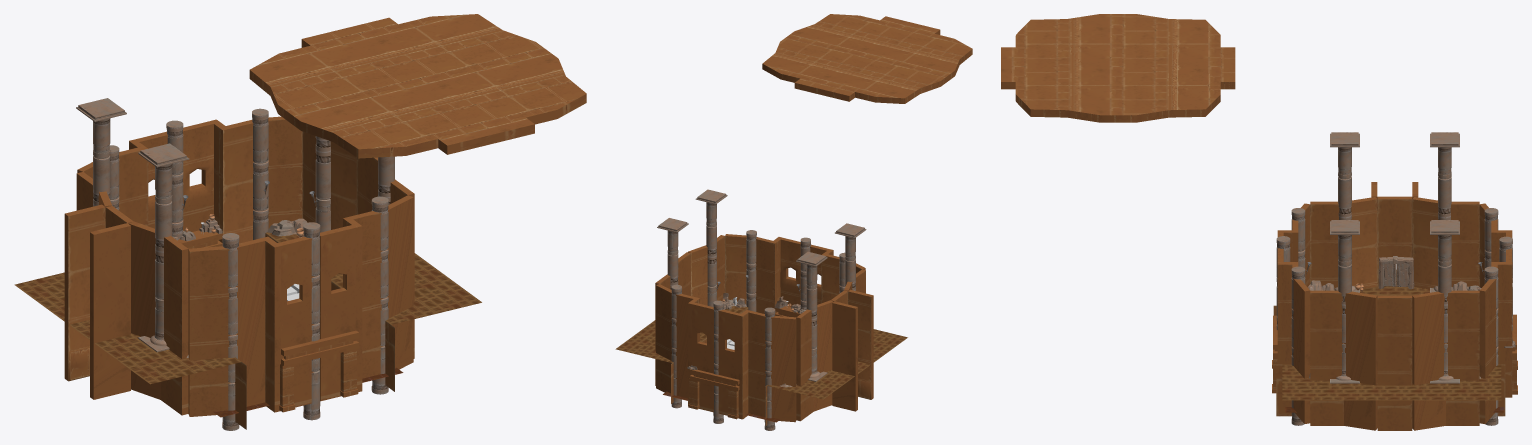
3 renders of one model, left to right at view 1: azimuth 30°, elevation 25°; view 2: azimuth 150°, elevation 25°; view 3: azimuth 270°, elevation 25°, orthographic. The views are drawn at different scales.
Parts seen in each view (by area): view 1: stage3_130, stage3_131, stage3_011, stage3_102, stage3_009, stage3_101, stage3_015, stage3_001, stage3_010, stage3_002, stage3_007, stage3_008 (+30 smaller); view 2: stage3_130, stage3_131, stage3_006, stage3_000, stage3_092, stage3_093, stage3_007, stage3_008, stage3_015, stage3_005, stage3_010, stage3_004 (+21 smaller); view 3: stage3_130, stage3_018, stage3_029, stage3_019, stage3_017, stage3_016, stage3_020, stage3_131, stage3_005, stage3_002, stage3_003, stage3_004 (+18 smaller).
Part boxes in pixels (x1,y1,x2,y2): stage3_130: [249, 14, 586, 158]; stage3_131: [64, 204, 133, 399]; stage3_011: [188, 246, 230, 416]; stage3_102: [319, 225, 357, 401]; stage3_009: [236, 236, 271, 406]; stage3_101: [274, 236, 313, 407]; stage3_015: [14, 273, 195, 384]; stage3_001: [219, 120, 253, 243]; stage3_010: [387, 195, 413, 369]; stage3_002: [161, 236, 188, 415]; stage3_007: [268, 116, 302, 228]; stage3_008: [343, 211, 382, 378]; stage3_130: [762, 14, 972, 103]; stage3_131: [831, 289, 873, 411]; stage3_006: [770, 315, 796, 422]; stage3_000: [744, 310, 766, 416]; stage3_092: [692, 302, 714, 412]; stage3_093: [718, 309, 740, 415]; stage3_007: [656, 284, 672, 393]; stage3_008: [756, 237, 777, 313]; stage3_015: [795, 330, 907, 399]; stage3_005: [796, 309, 813, 421]; stage3_010: [725, 234, 746, 304]; stage3_004: [813, 300, 833, 411]; stage3_130: [1001, 14, 1235, 122]; stage3_018: [1377, 295, 1412, 430]; stage3_029: [1282, 382, 1501, 400]; stage3_019: [1344, 291, 1377, 430]; stage3_017: [1412, 291, 1445, 430]; stage3_016: [1446, 290, 1479, 425]; stage3_020: [1310, 290, 1343, 425]; stage3_131: [1371, 182, 1418, 286]; stage3_005: [1445, 201, 1479, 287]; stage3_002: [1310, 201, 1339, 288]; stage3_003: [1345, 197, 1377, 288]; stage3_004: [1412, 197, 1438, 289].
Size of the model in its own units: 3597 by 4254 by 6001.
